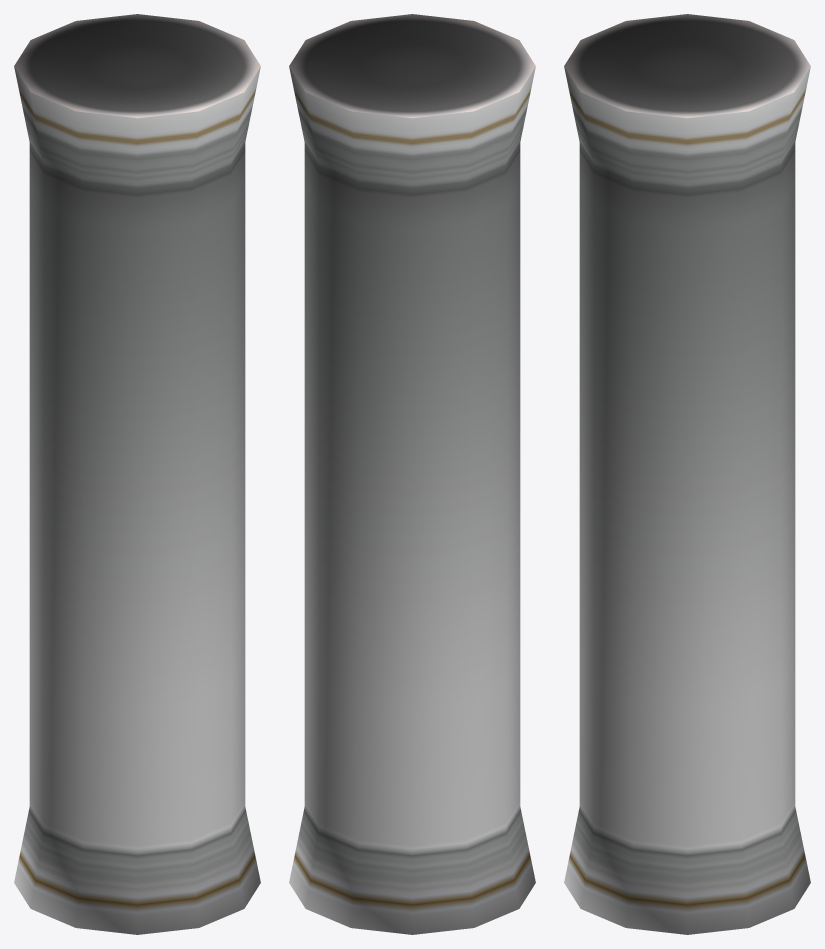
File: column.fbx
The picture shows the model from 3 angles, left to right: view 1: azimuth 30°, elevation 25°; view 2: azimuth 150°, elevation 25°; view 3: azimuth 270°, elevation 25°; orthographic projection.
Parts seen in each view (by area): view 1: column; view 2: column; view 3: column.
Part boxes in pixels (x1,y1,x2,y2): column: (14,14,260,934); column: (289,14,535,934); column: (564,14,810,934).
Bounding box in the file's own units: 1.92 × 7 × 1.92.
